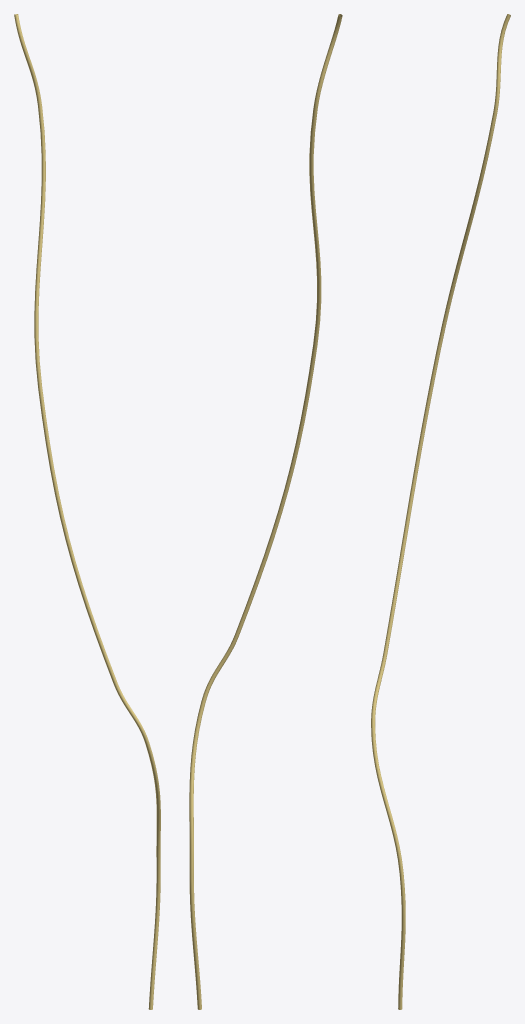
The picture shows the model from 3 angles, left to right: view 1: azimuth 30°, elevation 25°; view 2: azimuth 210°, elevation 25°; view 3: azimuth 270°, elevation 25°; orthographic projection. The views are drawn at different scales.
Visible parts, largest first — view 1: ZA_2db04c8cd85f6609; view 2: ZA_2db04c8cd85f6609; view 3: ZA_2db04c8cd85f6609.
Part boxes in pixels (x1,y1,x2,y2): ZA_2db04c8cd85f6609: (14, 14, 160, 1009); ZA_2db04c8cd85f6609: (189, 14, 342, 1009); ZA_2db04c8cd85f6609: (371, 14, 510, 1009).
Size of the model in its own units: 0.0286 by 0.2564 by 0.034.
